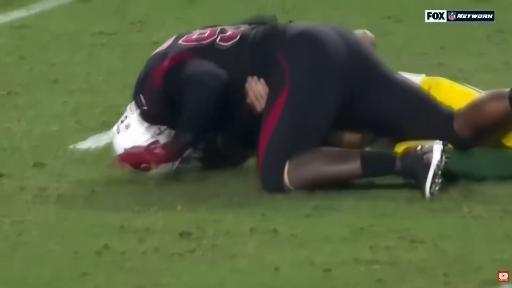Helmet: (112, 103, 174, 155)
Jersey: (134, 25, 267, 160)
Player: (120, 24, 510, 196), (395, 69, 489, 114)
